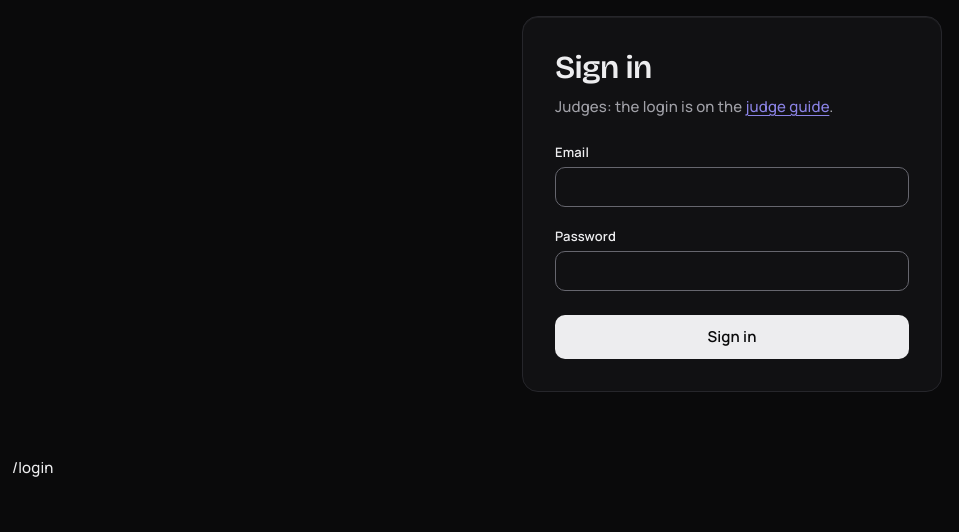
Test: Login › shows a plain message for wrong credentials and keeps the user on the page
This screenshot has width=959, height=532.
Type "judge@example.com" into the field labelled "Email" at [732, 187], box [555,167,909,207]
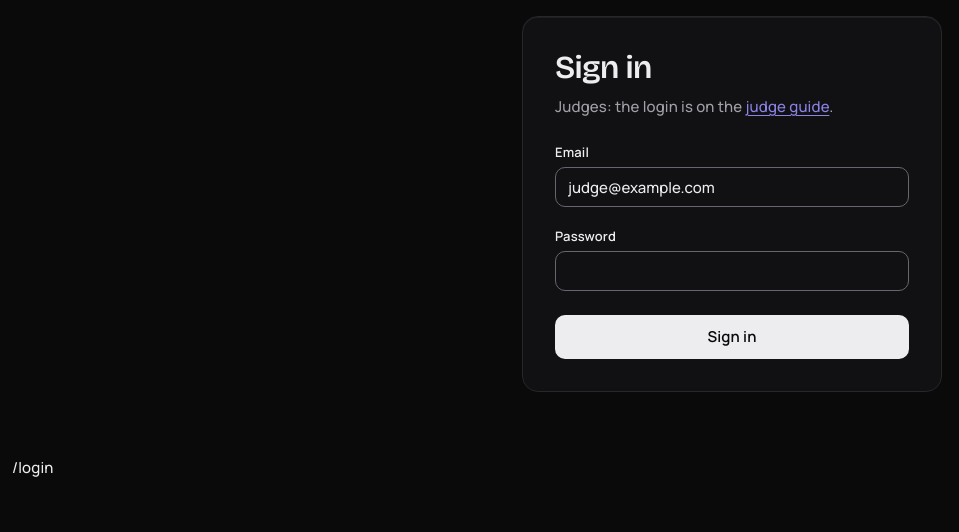
Type "pw" into the password field labelled "Password" at [732, 271], box [555,251,909,291]
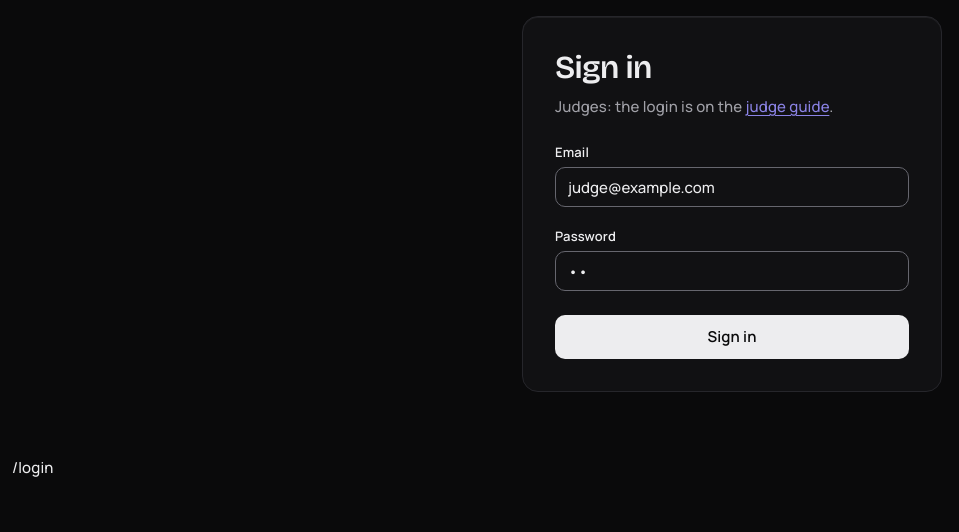
Click the button "Sign in" at [732, 337], box [555,315,909,359]
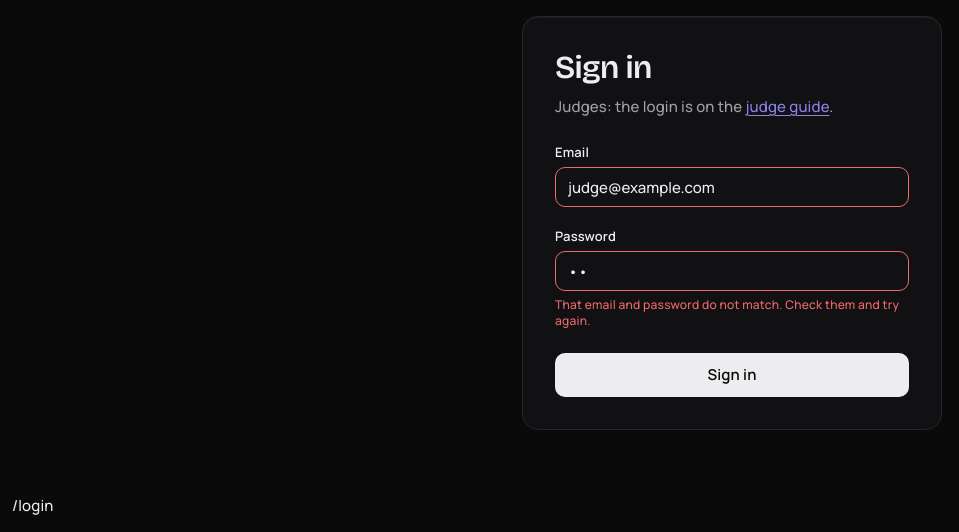
Expected: the message shows "do not match", [555,296,899,329]
